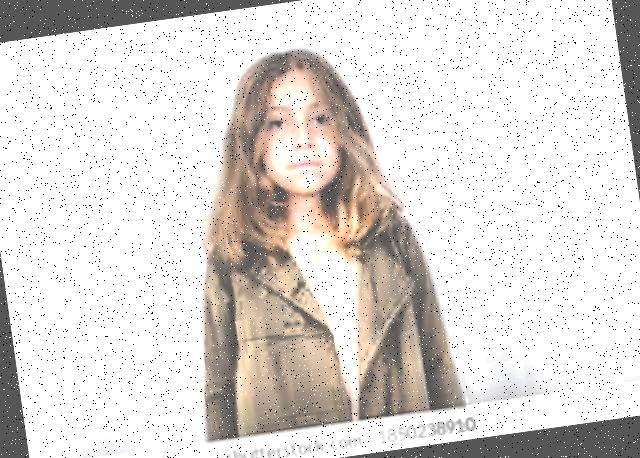neutral: (244, 65, 354, 201)
